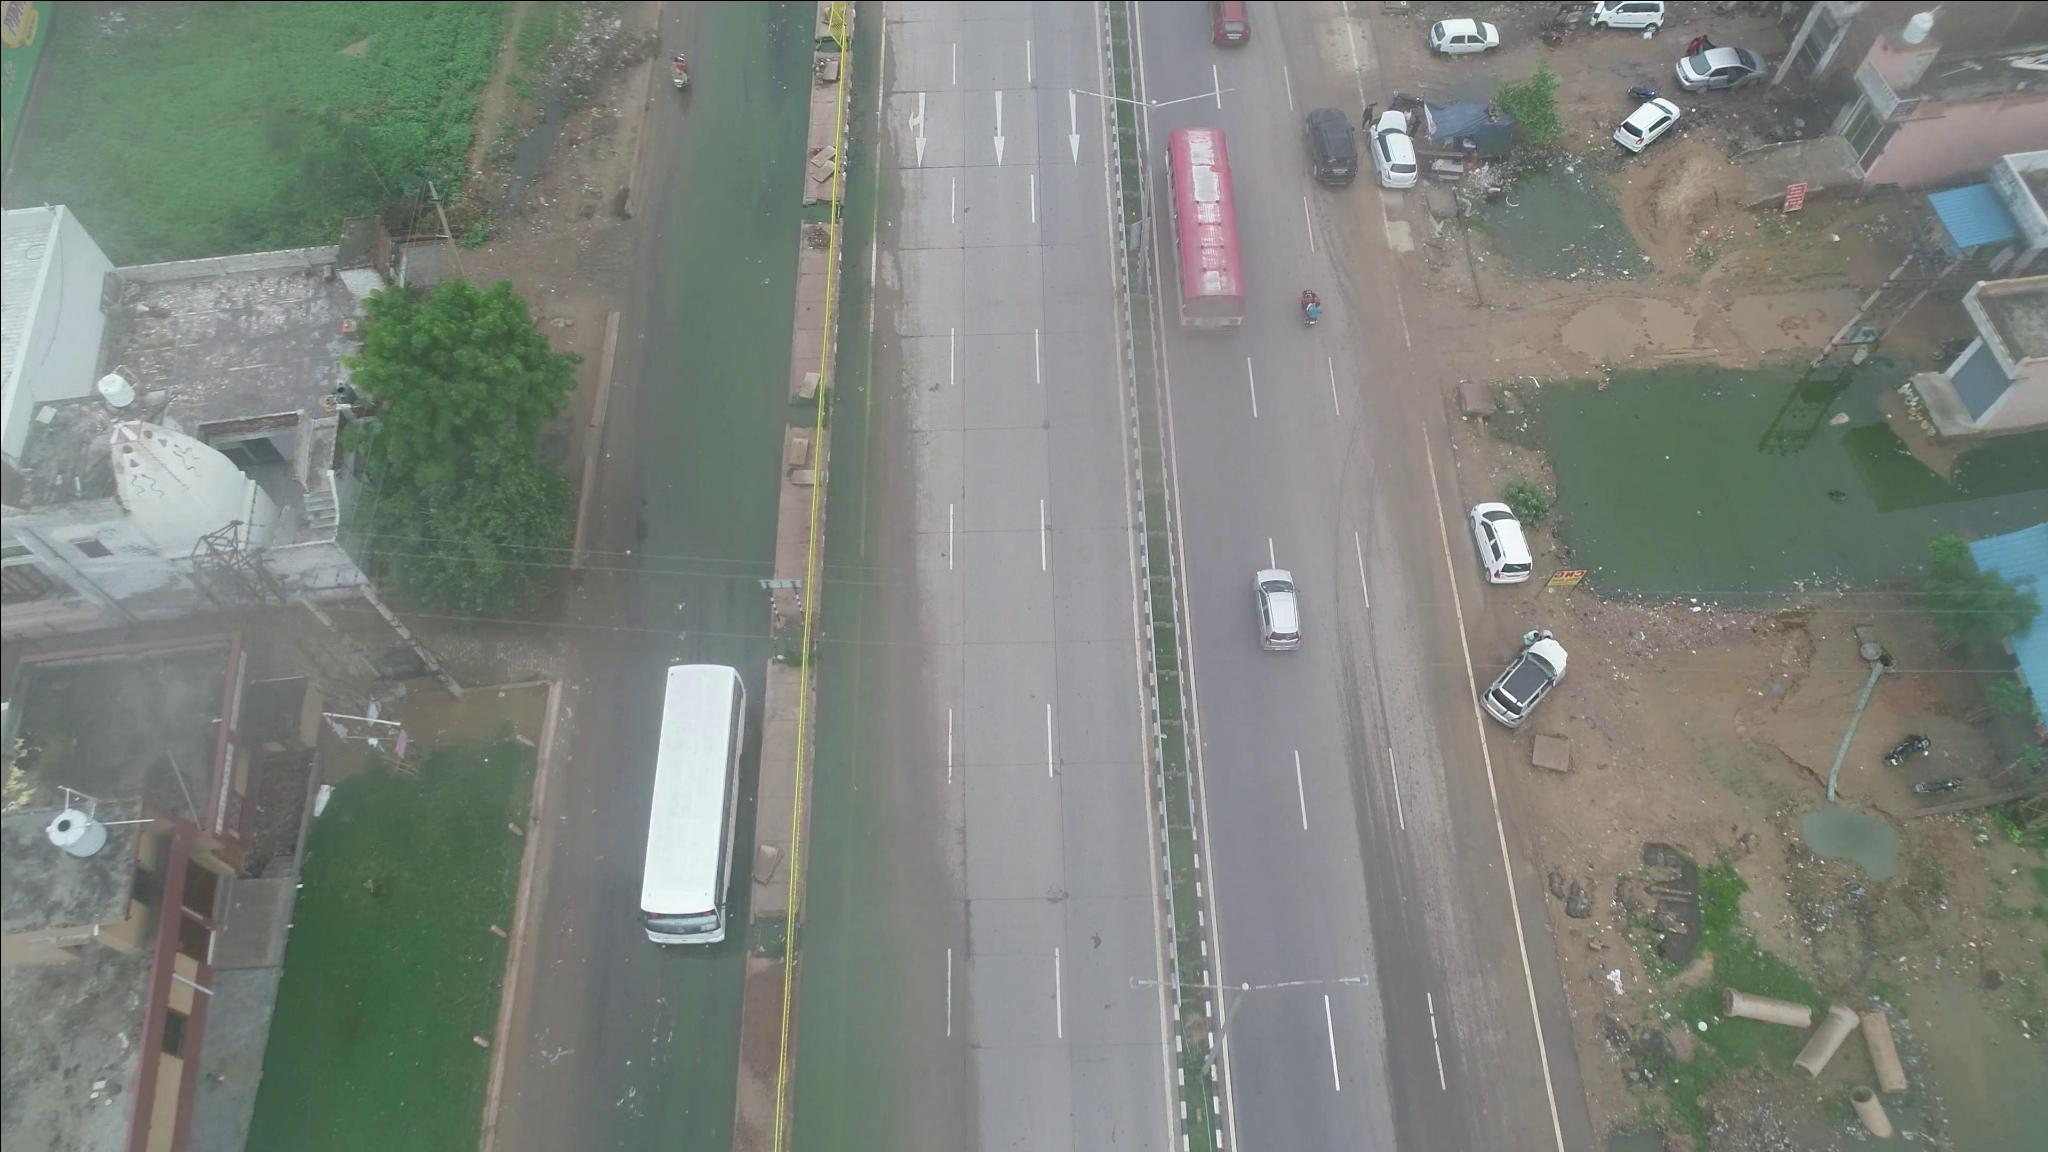Waterlogging: (648, 77, 795, 622), (799, 598, 934, 1145)
